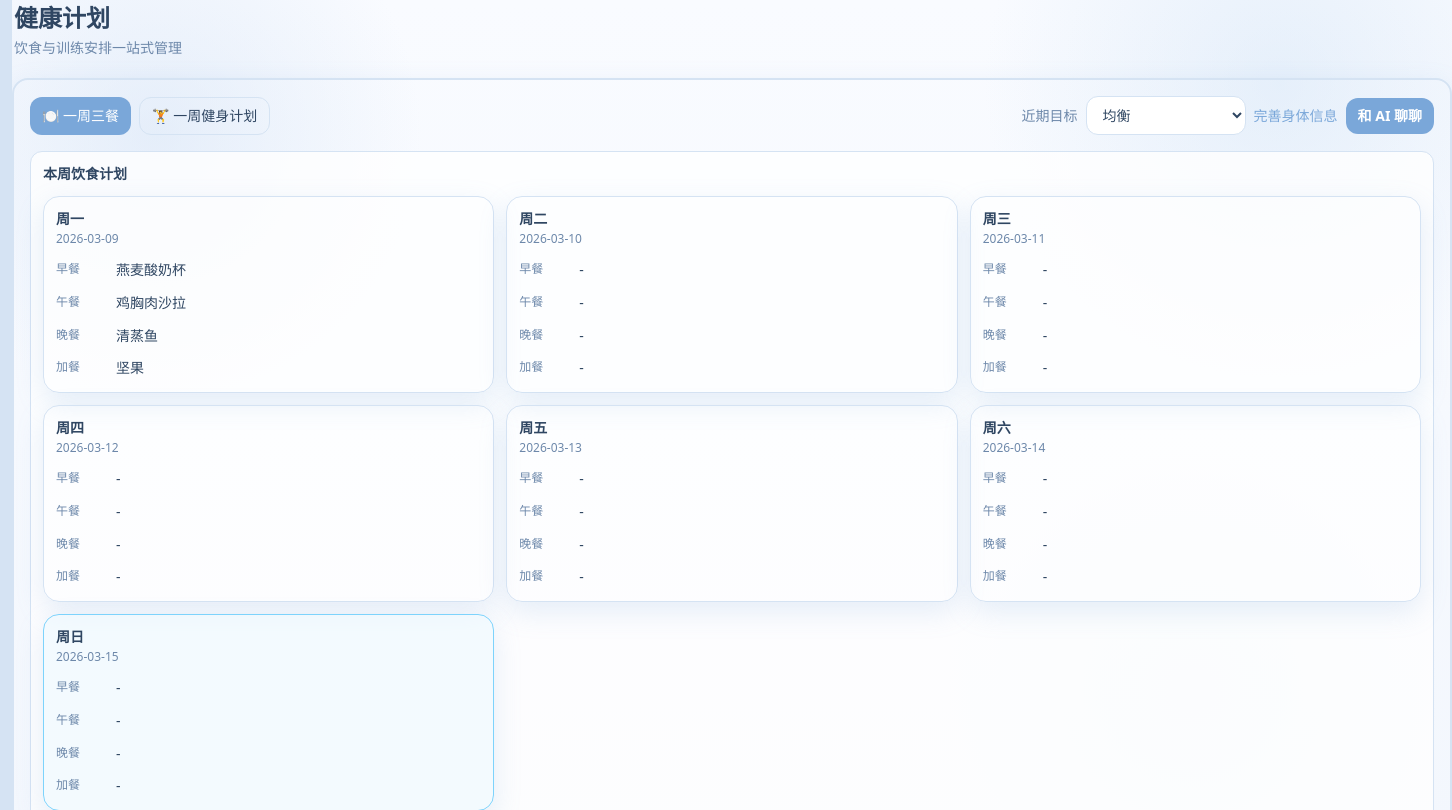
Test: Meal recipe panel › shows recipe panel when a meal slot is selected
This screenshot has width=1452, height=810.
Click the button "燕麦酸奶杯".
click(151, 270)  # box 116,259 -> 481,282
(page scrolled)
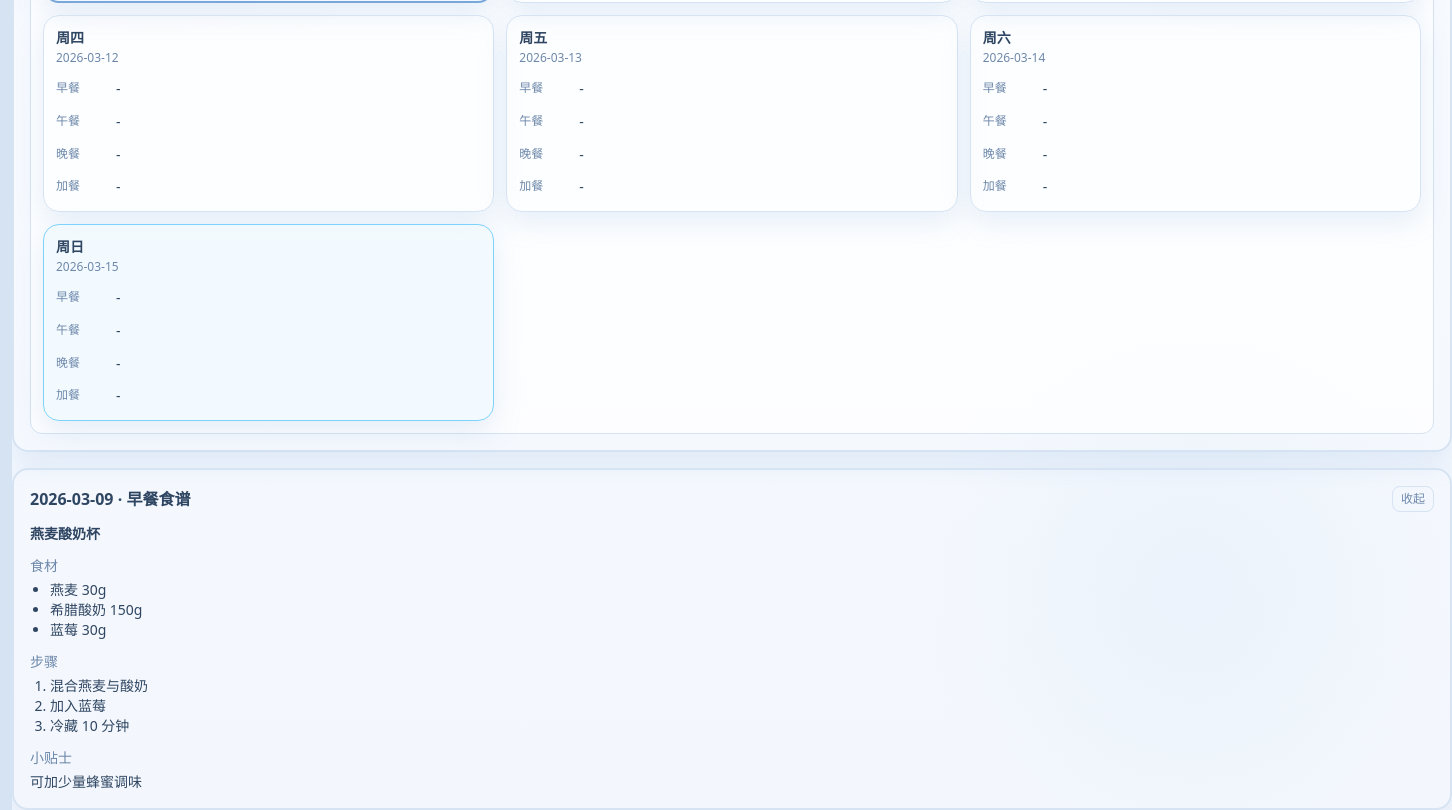
Expected: the heading "2026-03-09 · 早餐食谱" is shown, 30,487 -> 190,511
Expected: the list item "燕麦 30g" is shown, 50,580 -> 106,599
Expected: the list item "混合燕麦与酸奶" is shown, 50,676 -> 148,695
